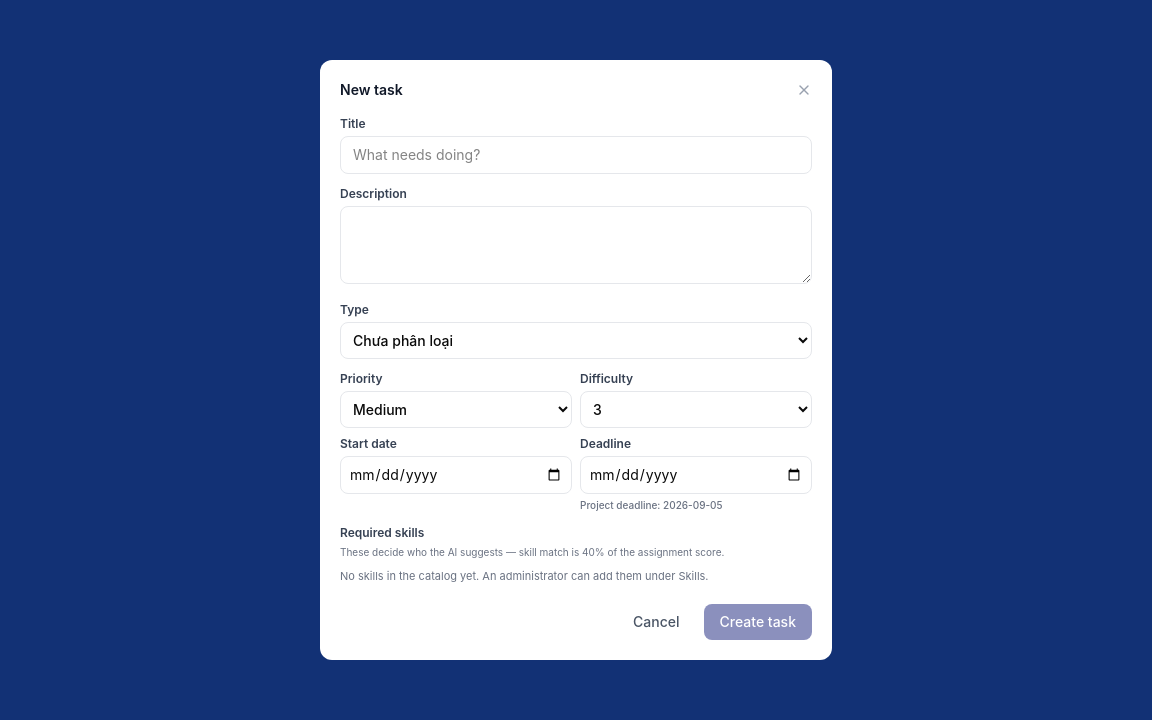
Test: CreateTaskModal project deadline › refuses a deadline set after the project's own deadline
The width and height of the screenshot is (1152, 720).
Type "Build the board" into the field labelled "Title" at (576, 155), box [340,136,812,174]
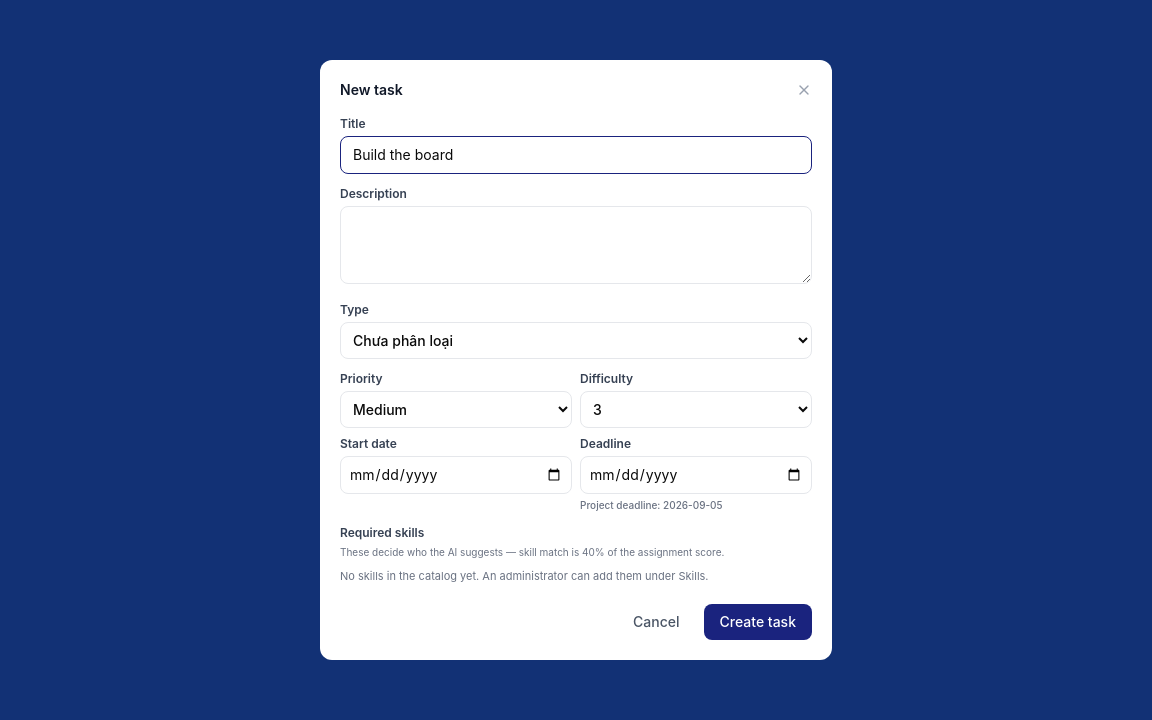
Type "2026-09-10" into the date field labelled "Deadline Project deadline: 2026-09-05" at (696, 475), box [580,456,812,494]
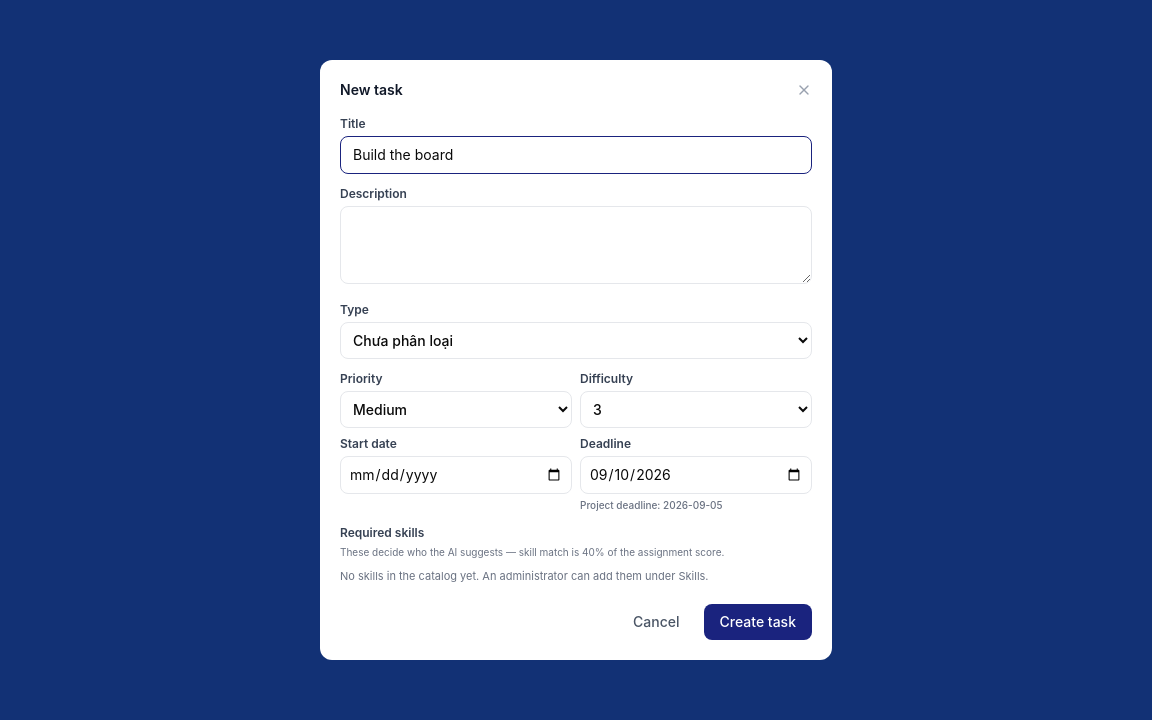
Click the button "Create task" at (758, 622), box [704,604,812,640]
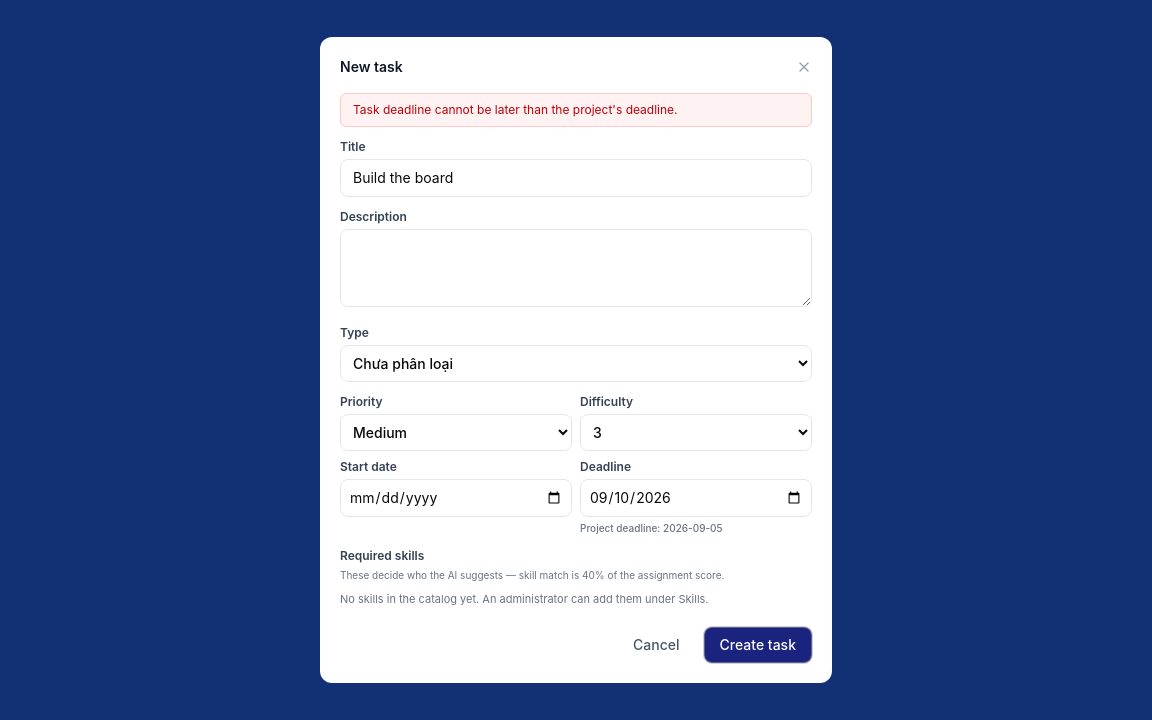
Result: the text "Task deadline cannot be later than the project's deadline." is shown at [340,93,812,127]
